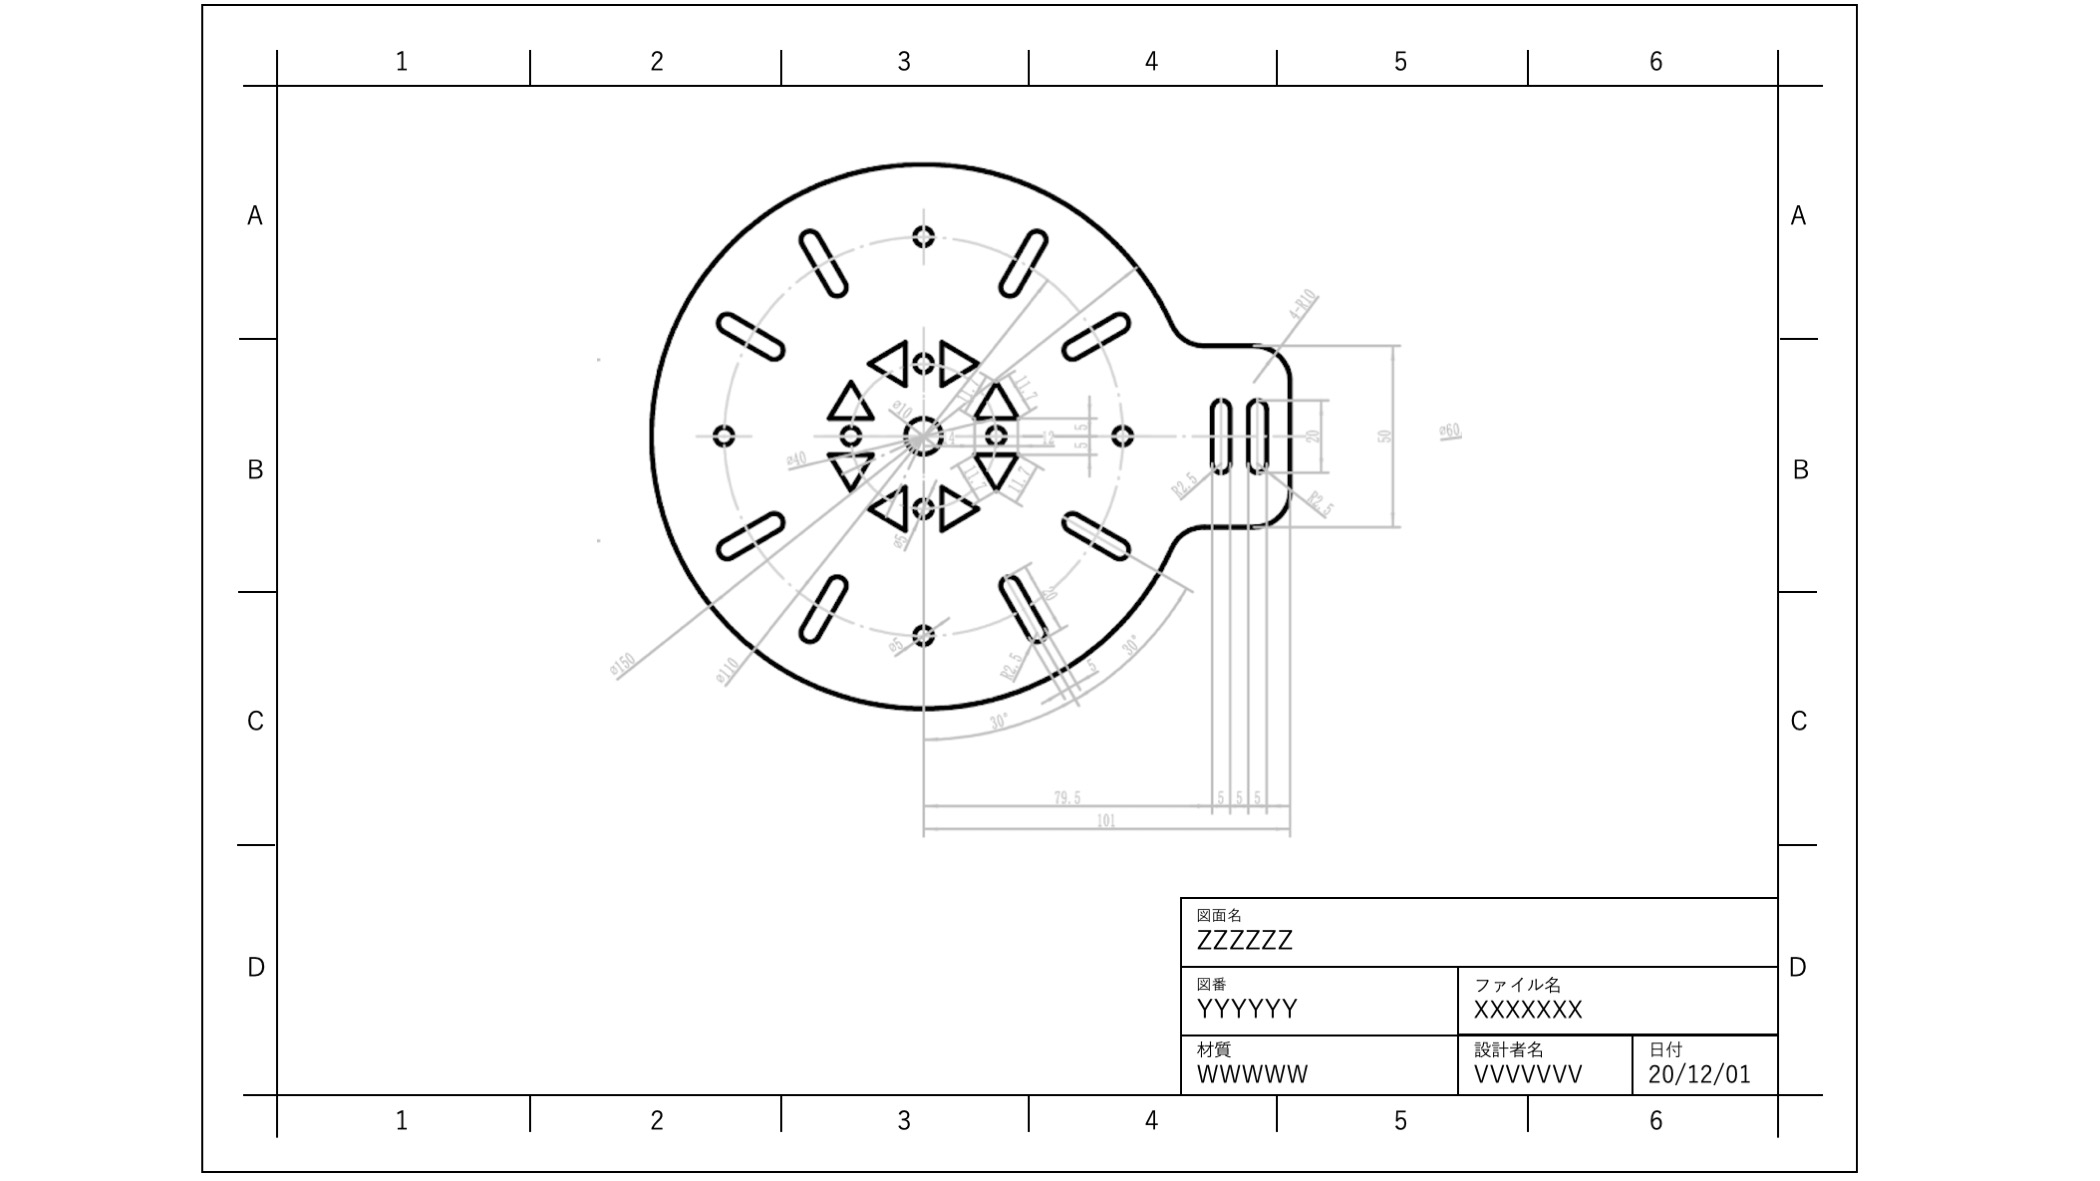circle: (899, 412, 948, 454), (702, 420, 743, 456), (906, 614, 943, 652), (909, 213, 939, 254), (909, 487, 937, 523), (829, 420, 870, 444), (1115, 398, 1134, 443), (981, 425, 1018, 447), (912, 346, 937, 376)
round_rectangle: (989, 568, 1054, 650), (1056, 306, 1139, 362), (995, 221, 1050, 304), (792, 221, 848, 301), (710, 306, 792, 361), (1057, 500, 1132, 559), (708, 505, 789, 559), (796, 570, 850, 647), (1204, 389, 1236, 479), (1243, 388, 1274, 479)
triangle: (930, 327, 987, 385), (857, 333, 909, 389), (968, 376, 1028, 423), (927, 485, 984, 534), (826, 448, 883, 497), (968, 448, 1025, 492), (870, 479, 912, 536), (826, 373, 875, 420)
